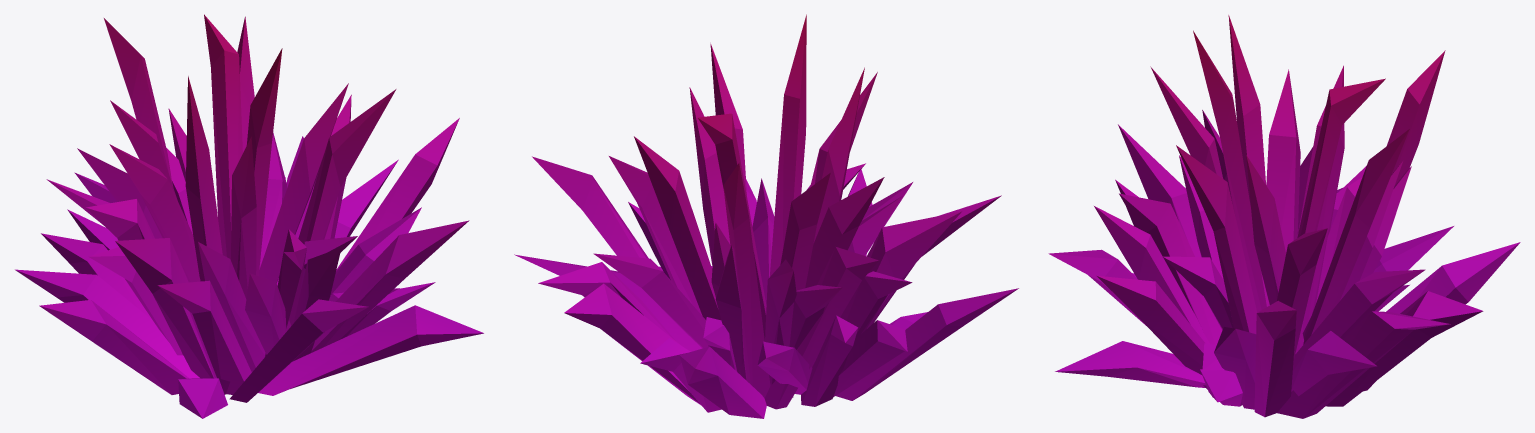
Rendered from SM_Plant_Grass_03.gltf.
The picture shows the model from 3 angles, left to right: view 1: azimuth 30°, elevation 25°; view 2: azimuth 150°, elevation 25°; view 3: azimuth 270°, elevation 25°; orthographic projection. The views are drawn at different scales.
Parts seen in each view (by area): view 1: SM_Plant_Grass_03; view 2: SM_Plant_Grass_03; view 3: SM_Plant_Grass_03.
Boxes of the visible parts, box(x1,y1,x2,y2) form: SM_Plant_Grass_03: box(15, 14, 483, 418); SM_Plant_Grass_03: box(514, 14, 1018, 418); SM_Plant_Grass_03: box(1048, 15, 1520, 418).
Bounding box in the file's own units: 0.9086 × 0.6554 × 0.7951.
